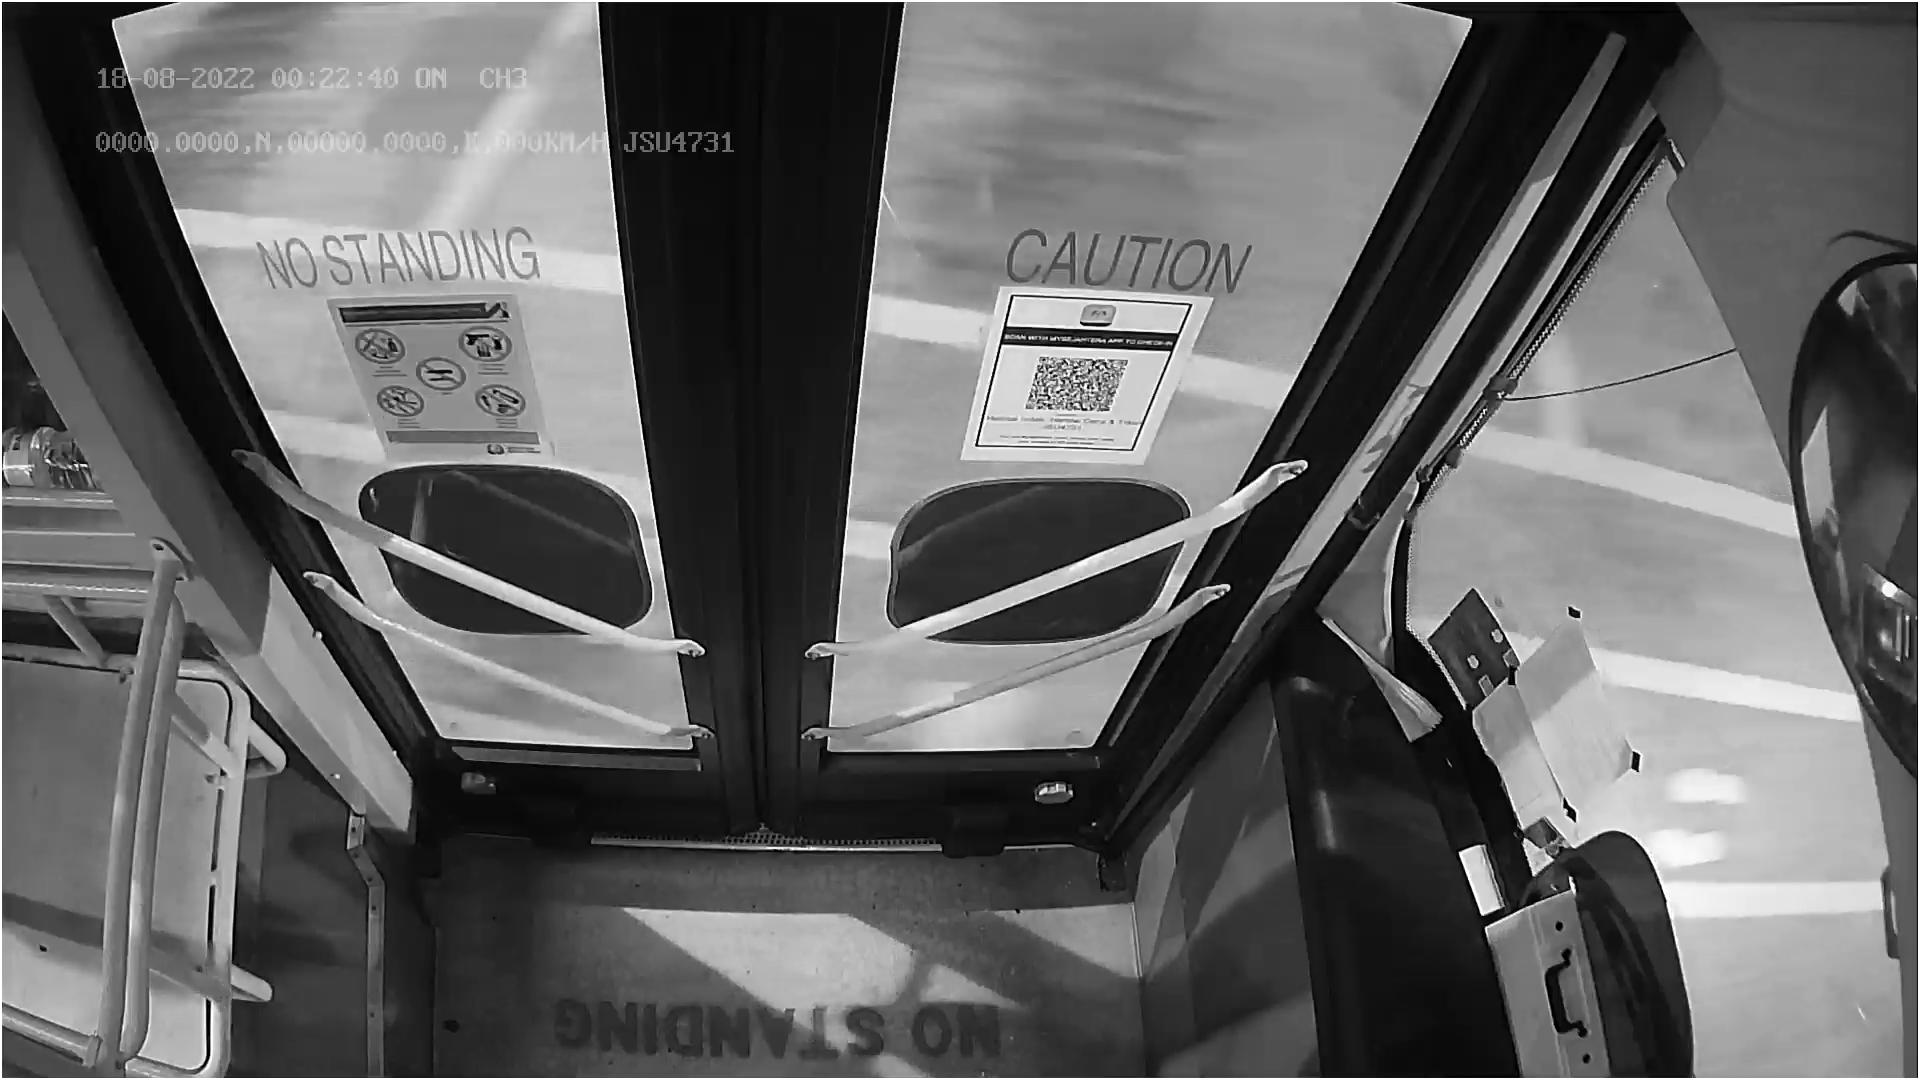close: (127, 0, 1452, 162)
